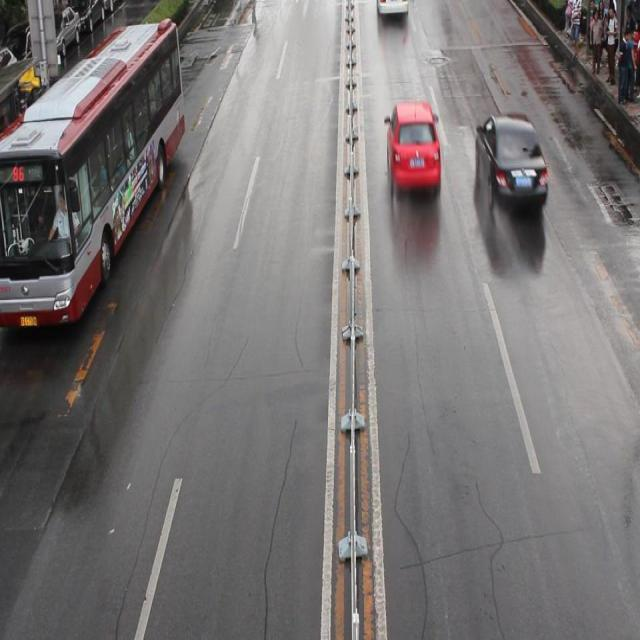car: (474, 110, 547, 209), (386, 101, 442, 189), (376, 1, 408, 18)
van: (1, 20, 185, 324)
